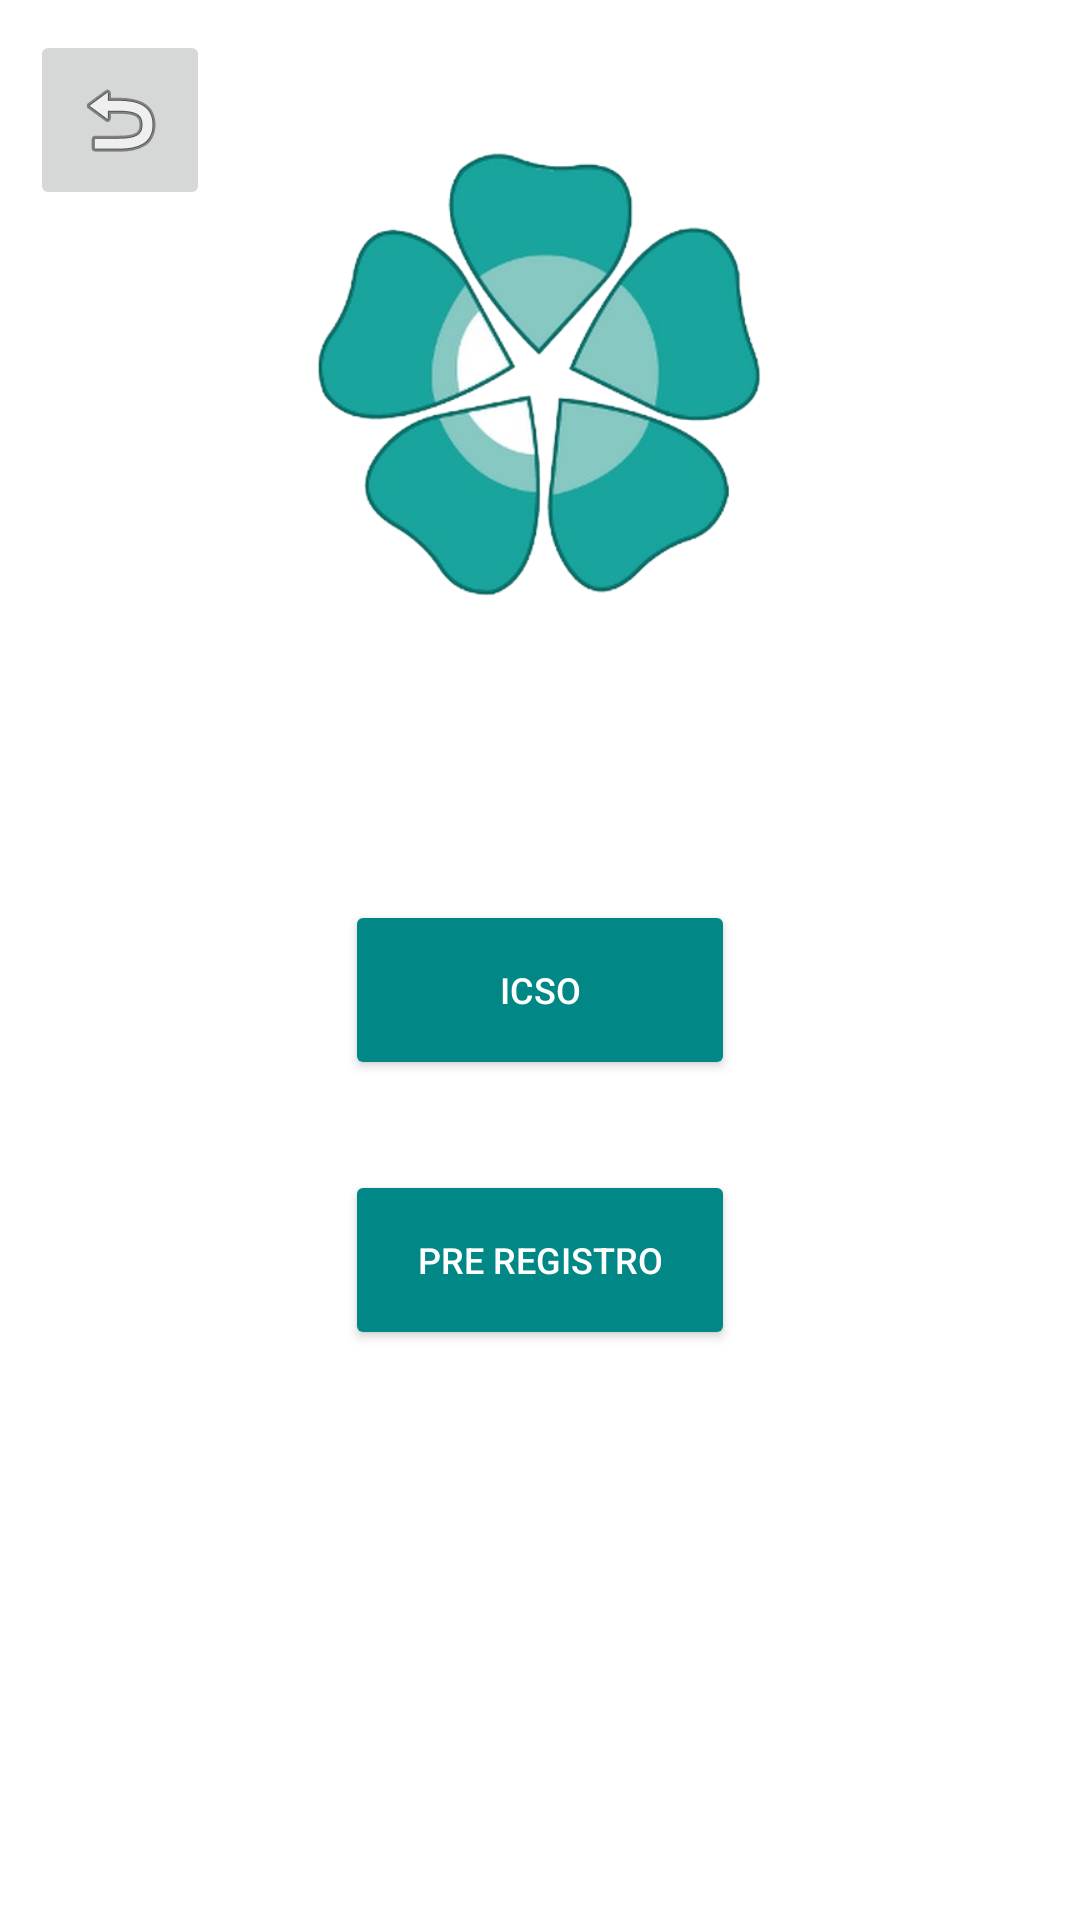

Icon bounding boxes for this 1080 x 1920 phone screenshot, format (x1, y1, x2, y2):
revert: (42, 48, 198, 192)
